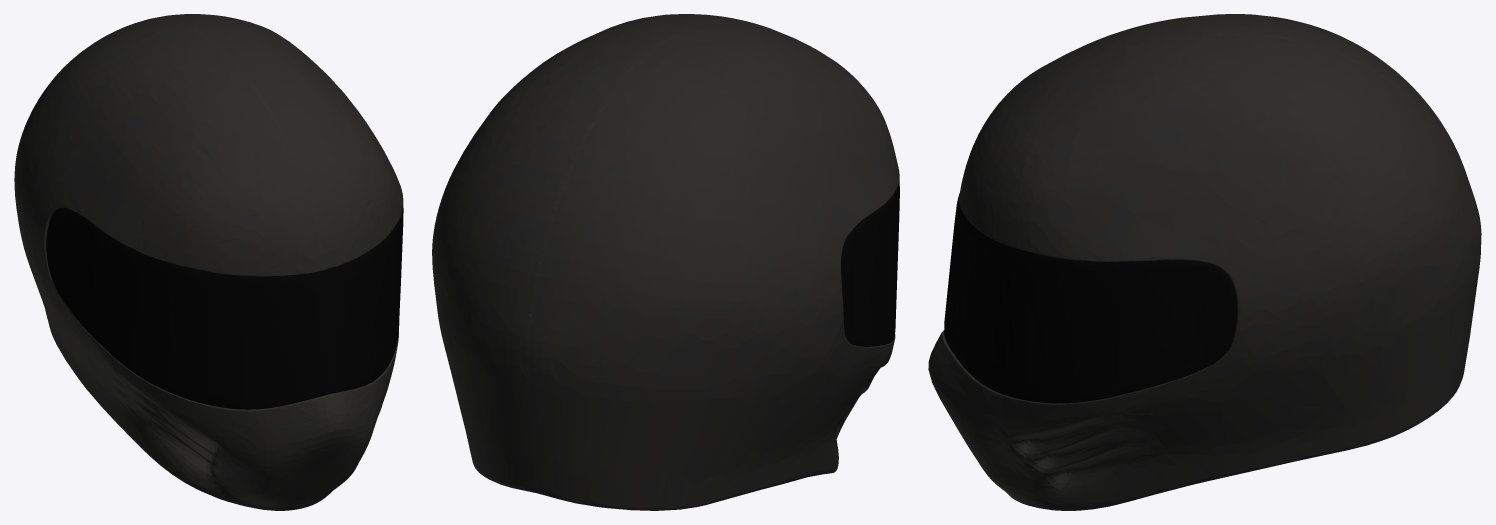
File: mhw_culturalibre_motorcycle_helmet.glb
The picture shows the model from 3 angles, left to right: view 1: azimuth 30°, elevation 25°; view 2: azimuth 150°, elevation 25°; view 3: azimuth 270°, elevation 25°; orthographic projection. The views are drawn at different scales.
Visible parts, largest first — view 1: mhw_culturalibre_motorcycle_helmet; view 2: mhw_culturalibre_motorcycle_helmet; view 3: mhw_culturalibre_motorcycle_helmet.
Boxes of the visible parts, x1=… form: mhw_culturalibre_motorcycle_helmet: x1=14, y1=14, x2=403, y2=510; mhw_culturalibre_motorcycle_helmet: x1=432, y1=14, x2=899, y2=510; mhw_culturalibre_motorcycle_helmet: x1=928, y1=14, x2=1481, y2=510.
Bounding box in the file's own units: 0.2137 × 0.261 × 0.2886.
1 material, 1 textured.
